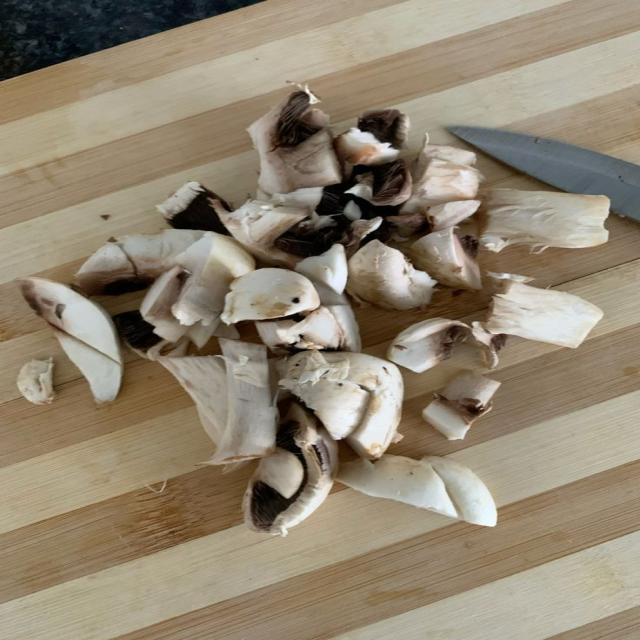champignon mushrooms: (157, 339, 276, 464), (280, 351, 403, 457), (20, 278, 122, 402), (243, 404, 338, 535), (256, 244, 360, 353), (338, 455, 496, 526), (248, 86, 341, 193), (207, 339, 277, 464), (76, 229, 202, 295), (480, 189, 610, 251), (486, 280, 603, 347), (172, 232, 254, 326), (296, 244, 361, 351), (157, 356, 227, 444), (401, 136, 481, 213), (347, 241, 436, 309), (220, 200, 308, 268), (255, 300, 361, 354), (221, 268, 319, 324), (280, 378, 369, 439), (422, 371, 500, 440), (54, 329, 122, 403), (387, 318, 468, 373), (411, 228, 481, 290), (335, 109, 409, 165), (157, 181, 231, 234), (140, 265, 189, 341), (295, 244, 347, 304), (346, 160, 412, 206), (276, 307, 342, 349), (415, 134, 476, 176), (114, 311, 167, 358), (335, 128, 399, 165), (358, 109, 410, 148), (327, 299, 361, 352), (17, 358, 54, 404), (471, 322, 506, 369), (427, 200, 480, 231), (345, 217, 383, 257), (255, 319, 297, 355), (386, 213, 427, 241), (487, 272, 534, 283)
